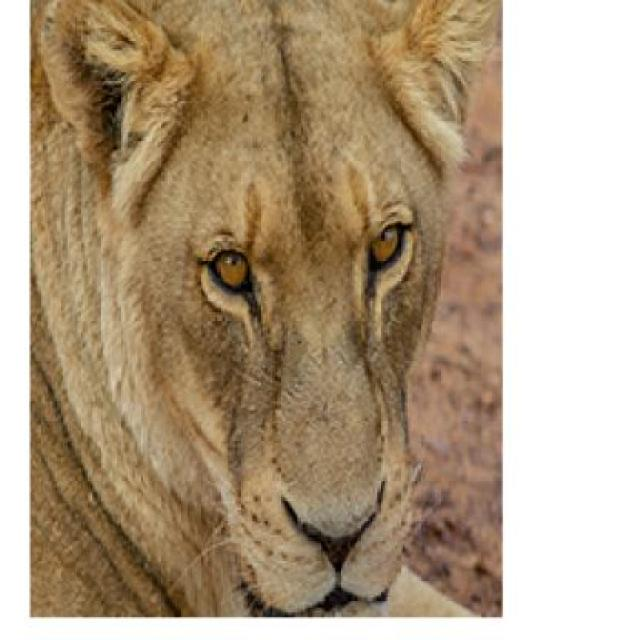Lion: (3, 3, 542, 639)
